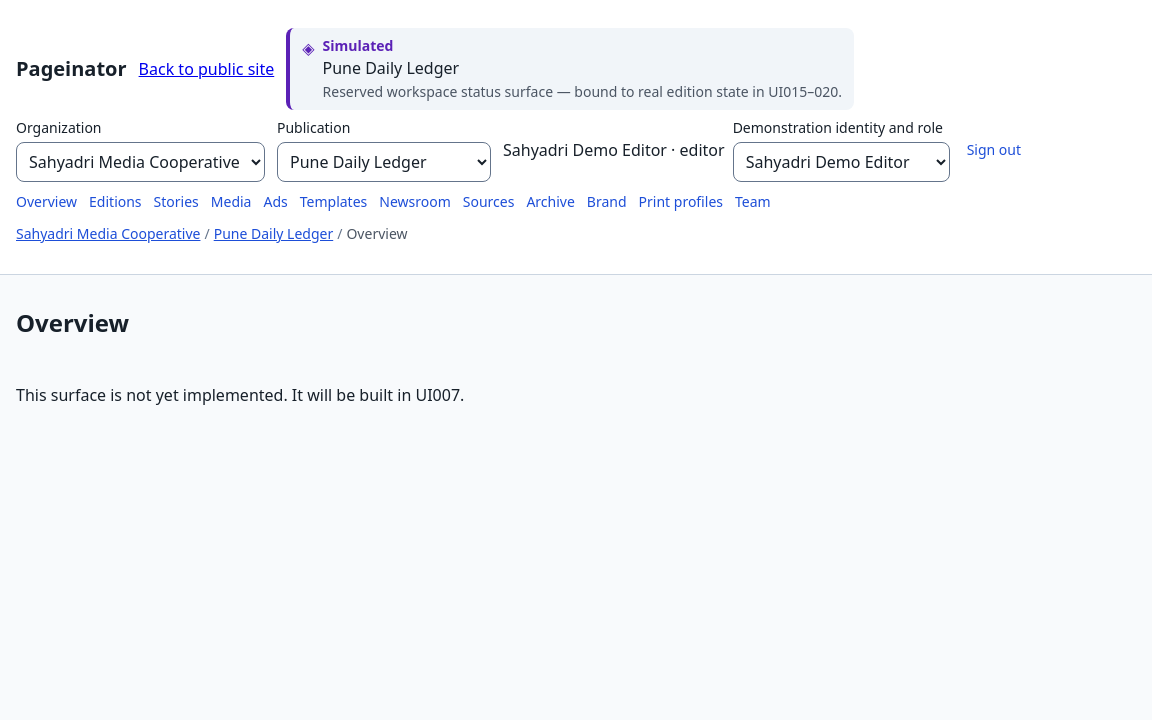
Test case: UI004 protected access › logs out from protected content without preserving returnTo
Click the button "Sign out" at {"x": 994, "y": 150}, box [958,134,1030,166]
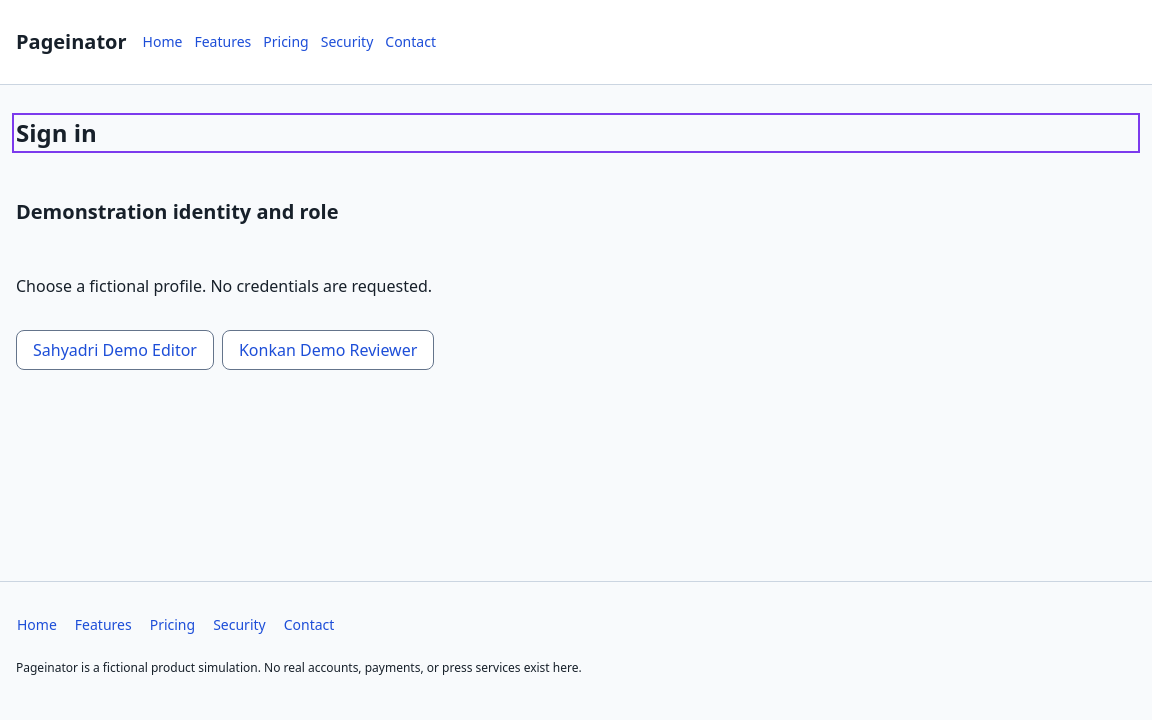
Result: the heading "Sign in" is shown at [16,116,97,149]
